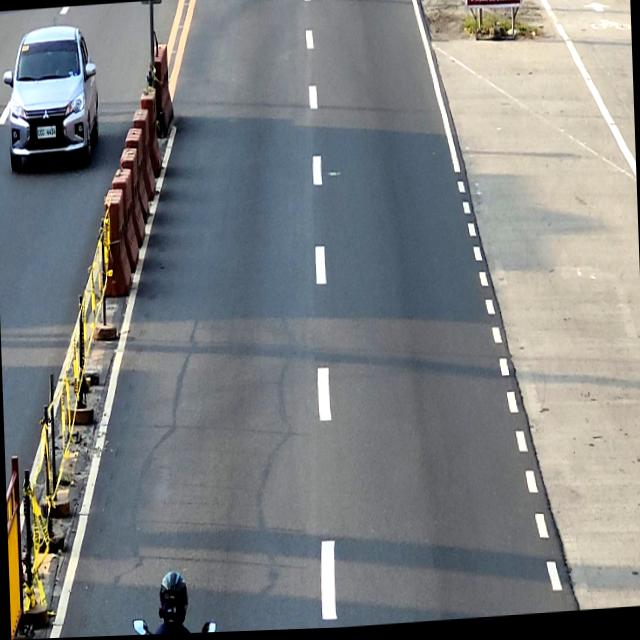Car: (1, 22, 100, 172)
License-Plate: (36, 126, 56, 139)
